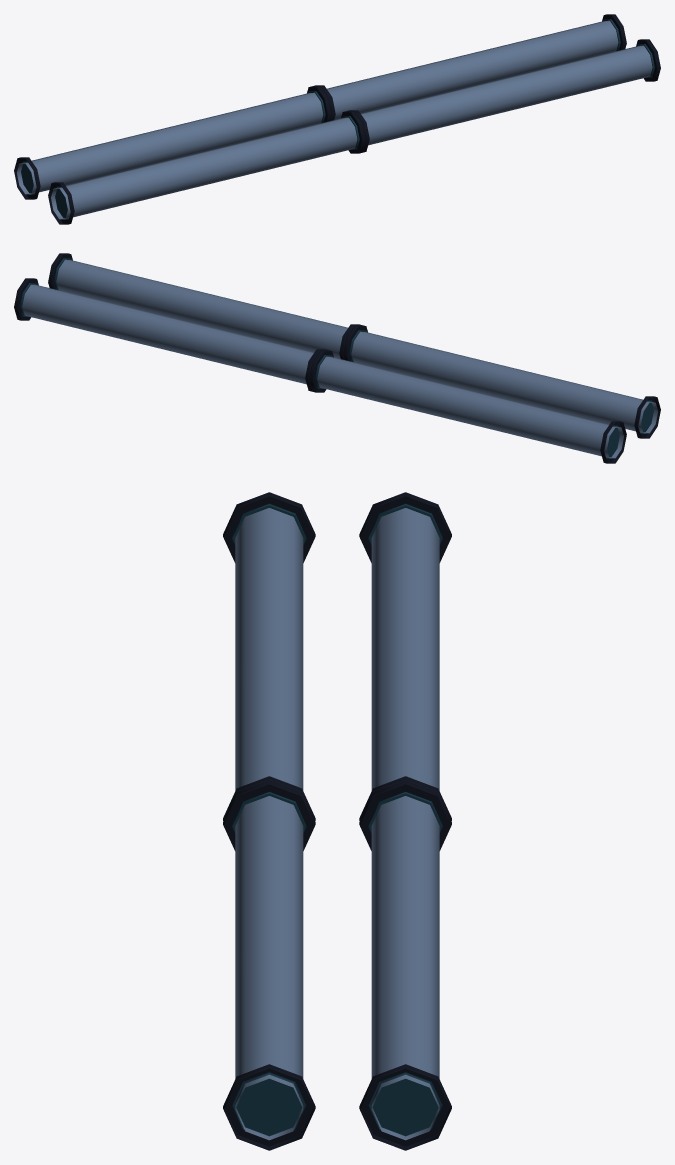
File: PipeComplexSmall_A_08.fbx
3 renders of one model, top to bottom at view 1: azimuth 30°, elevation 25°; view 2: azimuth 150°, elevation 25°; view 3: azimuth 270°, elevation 25°, orthographic. The views are drawn at different scales.
Parts seen in each view (by area): view 1: PipeComplexSmall_A_08.001; view 2: PipeComplexSmall_A_08.001; view 3: PipeComplexSmall_A_08.001.
Part boxes in pixels (box(x1,y1,x2,y2)): PipeComplexSmall_A_08.001: box(14, 14, 660, 224); PipeComplexSmall_A_08.001: box(14, 253, 660, 463); PipeComplexSmall_A_08.001: box(223, 492, 451, 1150).
Bounding box in the file's own units: 2 × 0.1356 × 0.3356.
